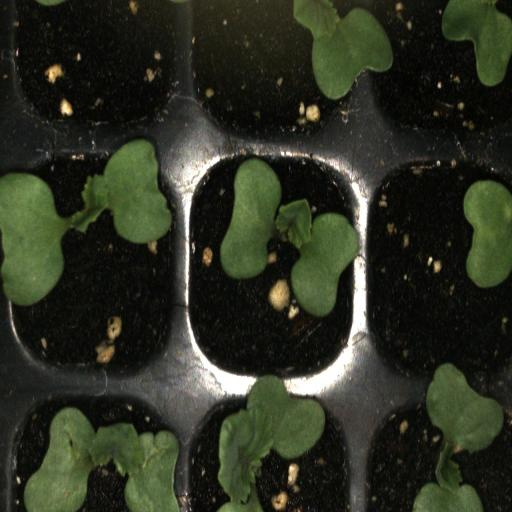noseedling: (8, 0, 189, 147)
seedling: (4, 145, 186, 383), (185, 144, 361, 379), (5, 379, 186, 512), (188, 377, 359, 512), (360, 379, 512, 511)
